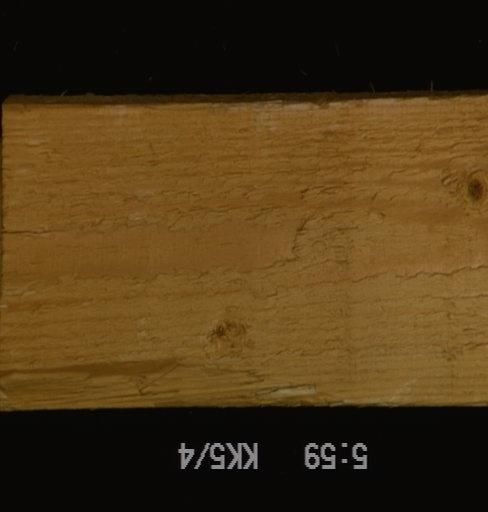small_knot: (196, 314, 255, 361)
sound_knot: (437, 156, 486, 215)
split: (0, 218, 72, 240)
wave: (0, 355, 337, 409)
